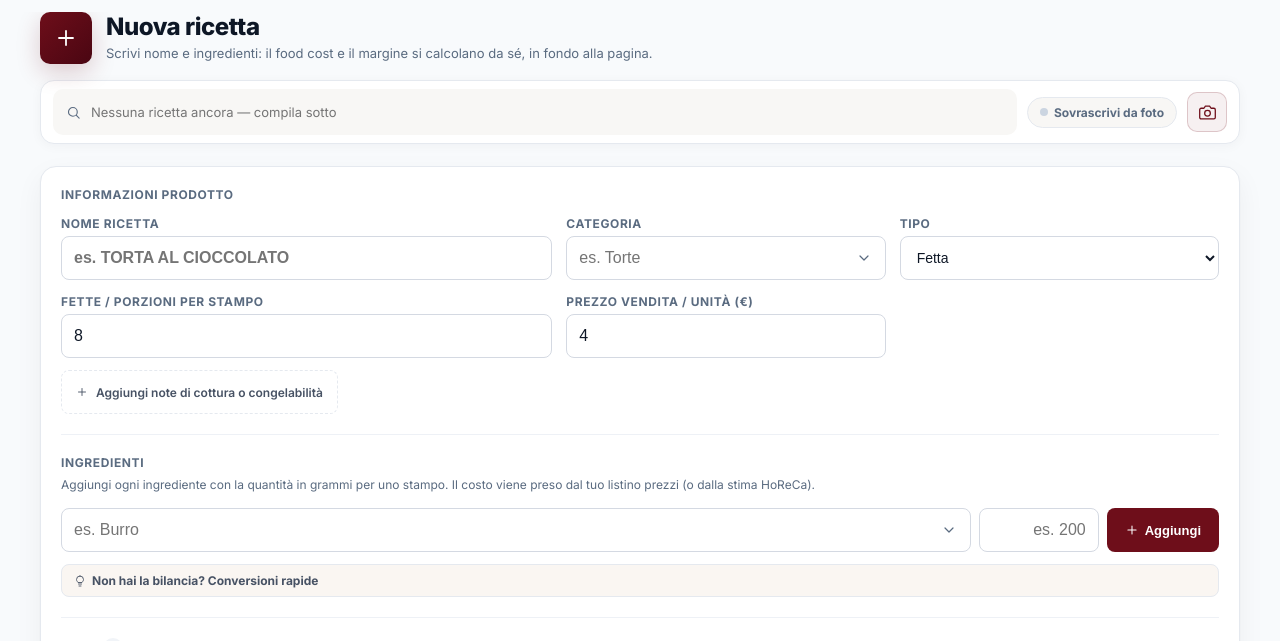
Scenario: Nuovo gusto - note di cottura: apre e chiude › richiudere non cancella la nota appena scritta
Click the button "Aggiungi note di cottura o congelabilità".
click(199, 392)  # box [61,370,338,414]
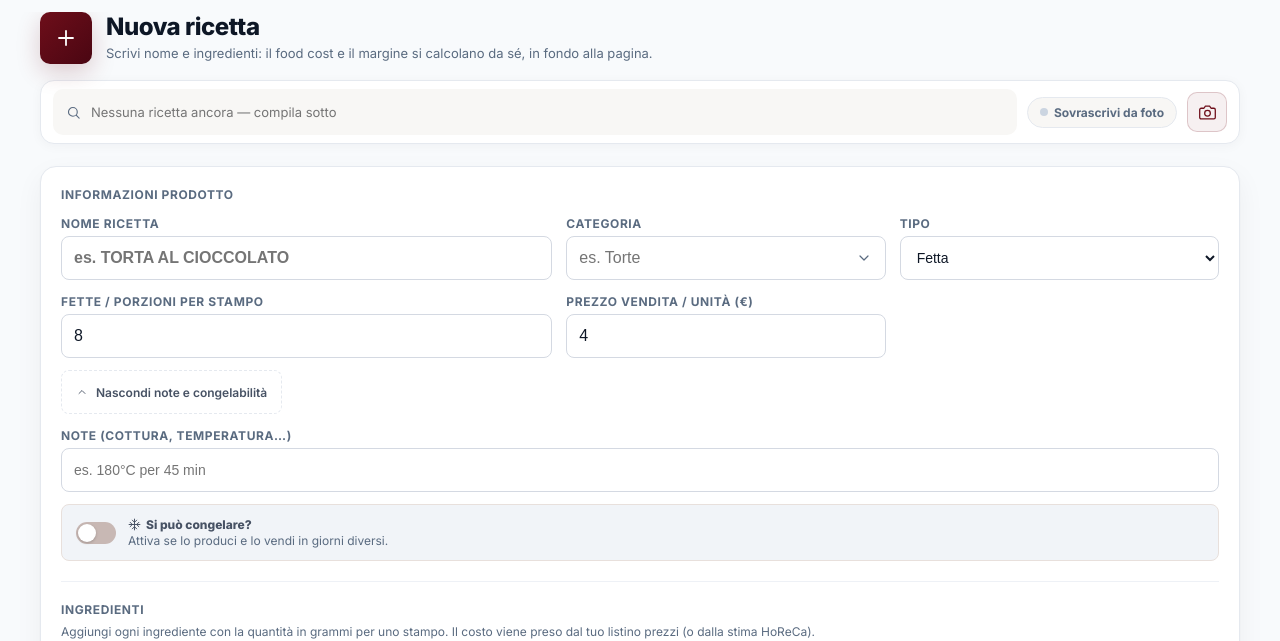
Type "180°C per 45 min" into the field named "note ricetta".
click(640, 470); type("180°C per 45 min")  # box [61,448,1219,492]
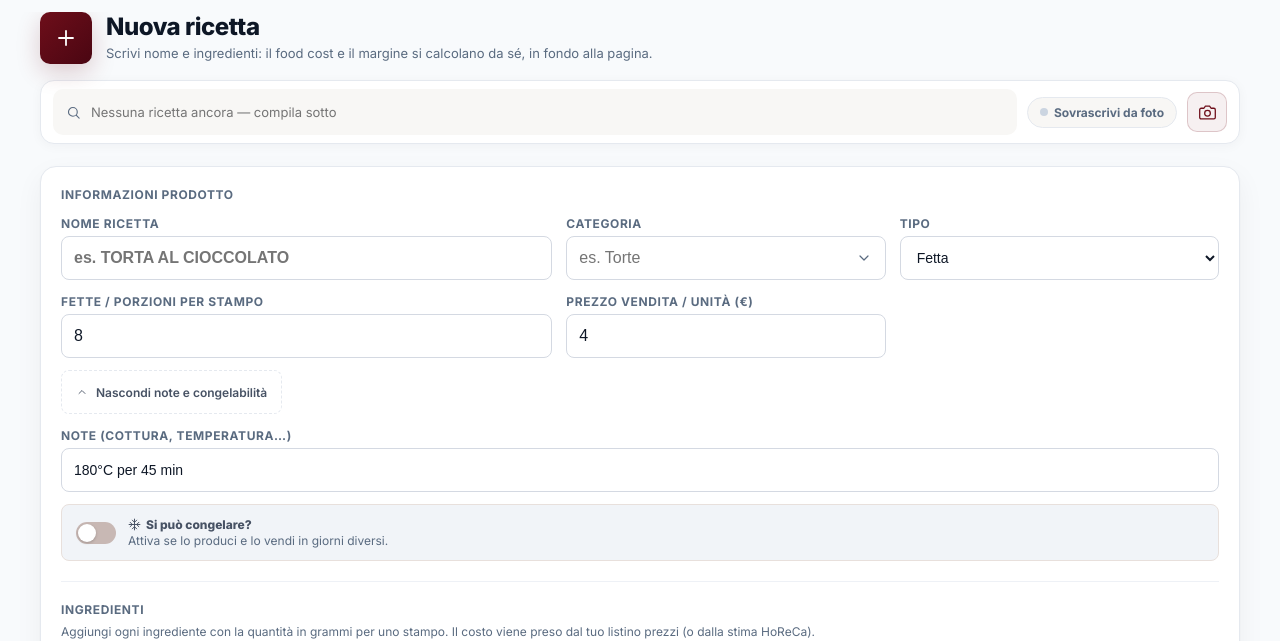
Click the button "Nascondi note e congelabilità".
click(172, 392)  # box [61,370,282,414]
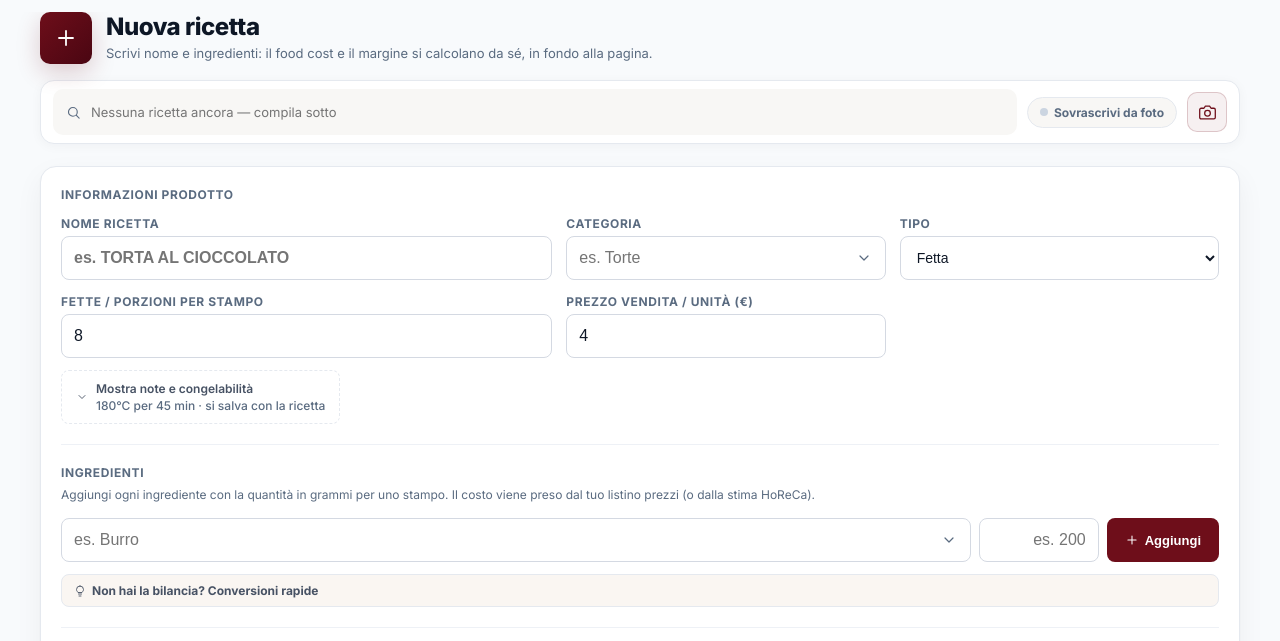
Click the button that starts with "Mostra note e congelabilità".
click(201, 397)  # box [61,370,340,424]
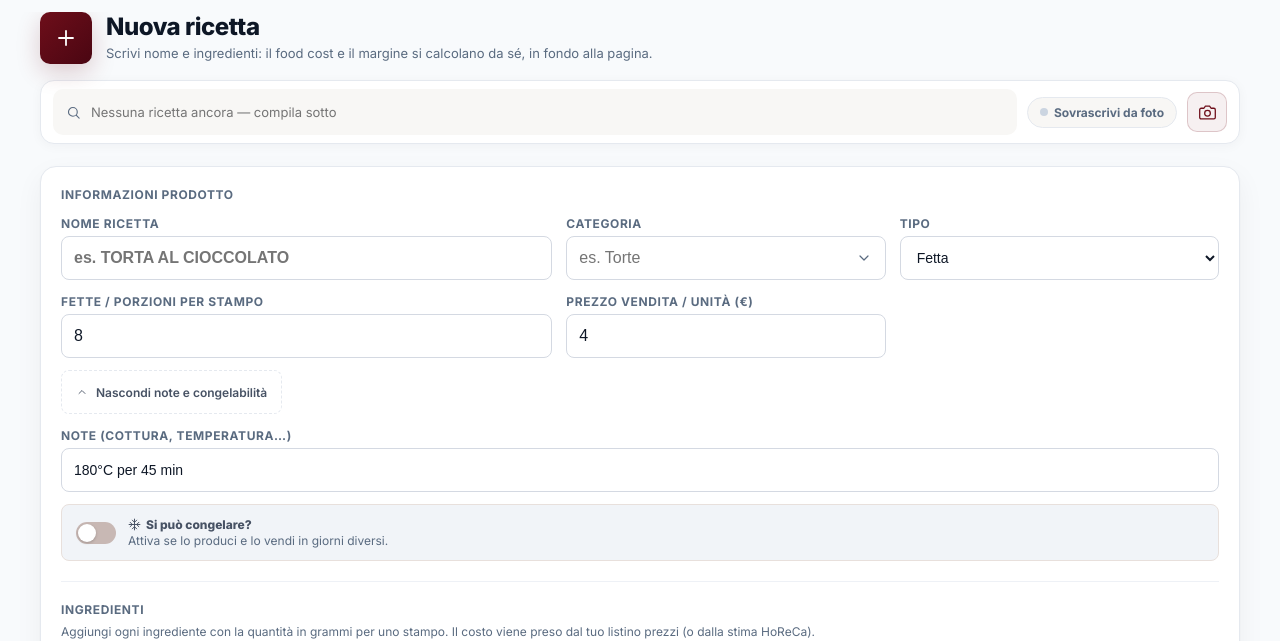
Now the field named "note ricetta" holds "180°C per 45 min", box [61,448,1219,492]
